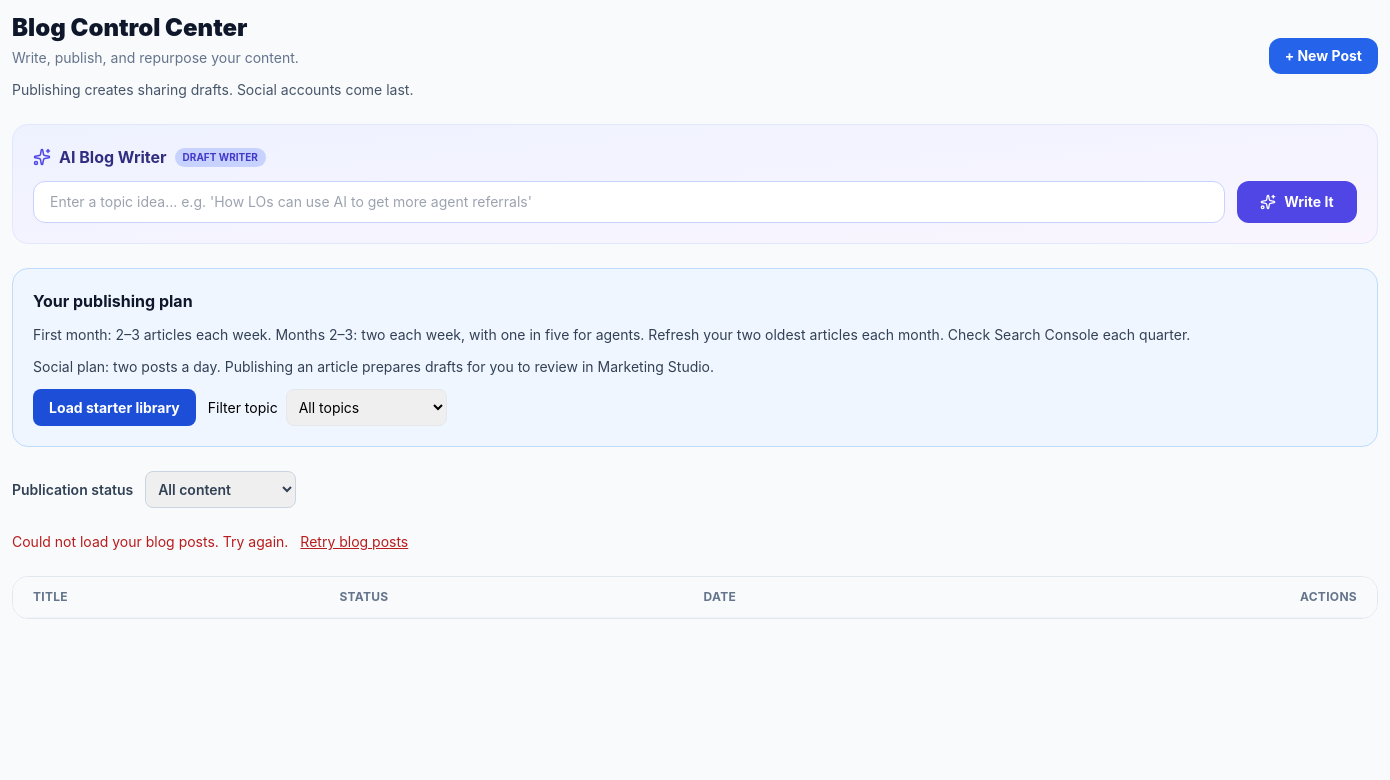
Test: blog list errors show a retry instead of pretending saved posts are absent
Expected: the text "Could not load your blog posts. Try again." is shown, top-left (12, 533), bottom-right (288, 550)
Click the button "Retry blog posts": (354, 542) top-left (300, 532), bottom-right (408, 552)
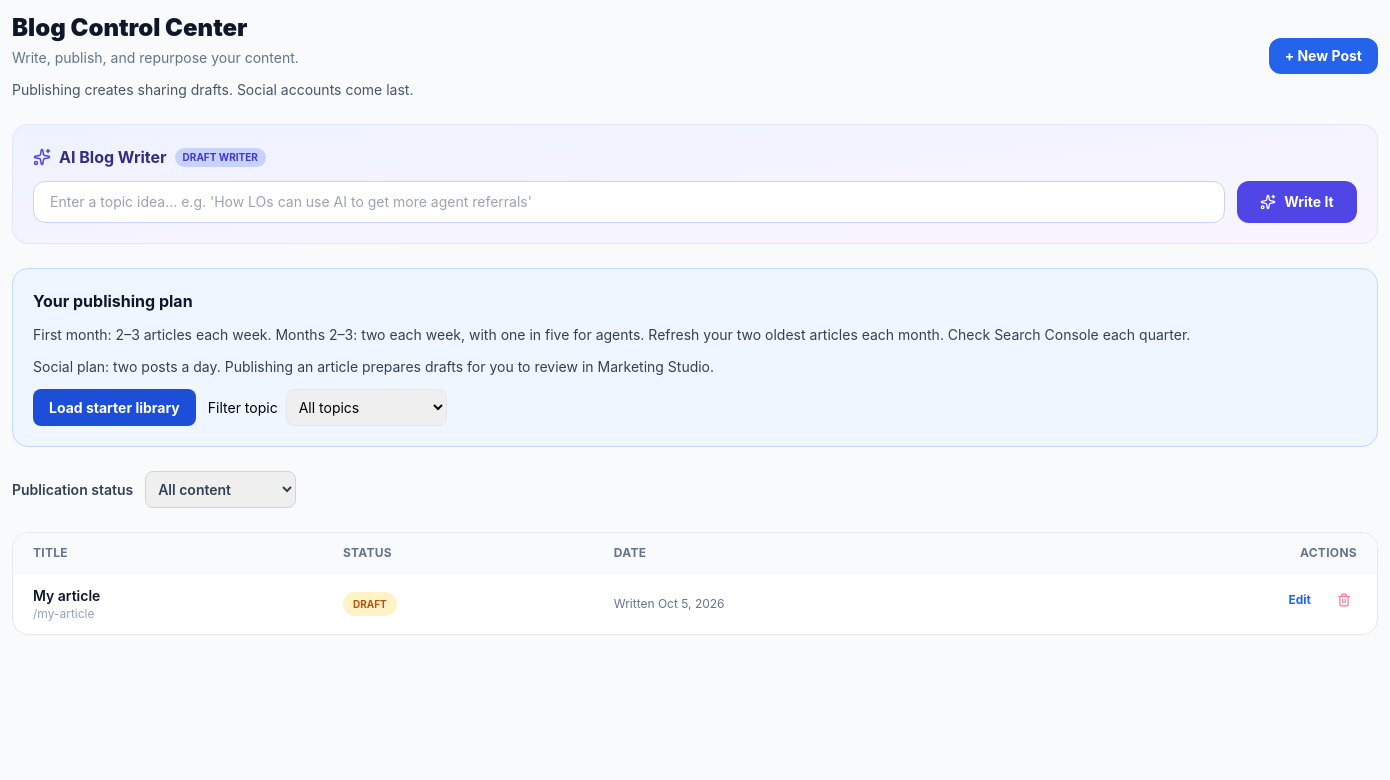
Now the text "My article" is shown, box top-left (33, 587), bottom-right (100, 604)
